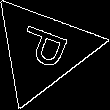P_E: (10, 24, 75, 76)
